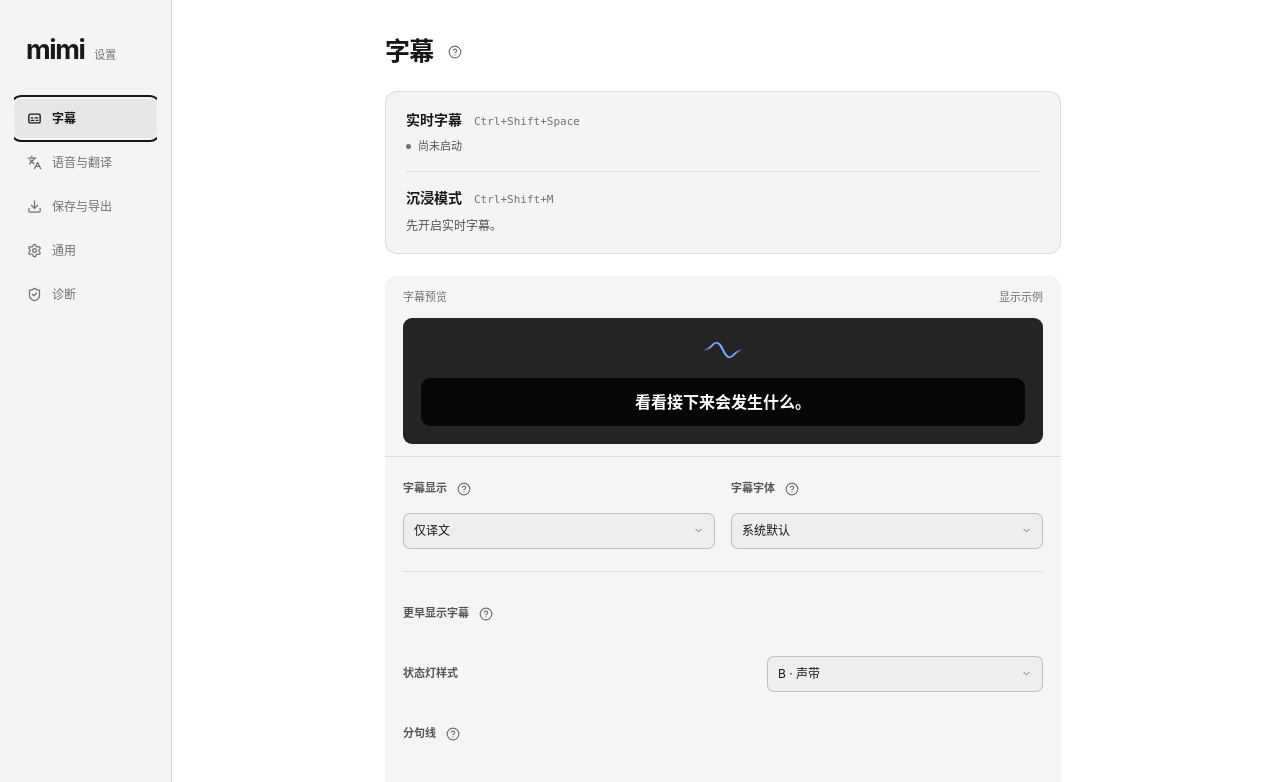
offers five categories in the expected order and keeps subtitle operations in the relevant pages in zh
Click the button "字幕" at (86, 119), box [14, 99, 157, 138]
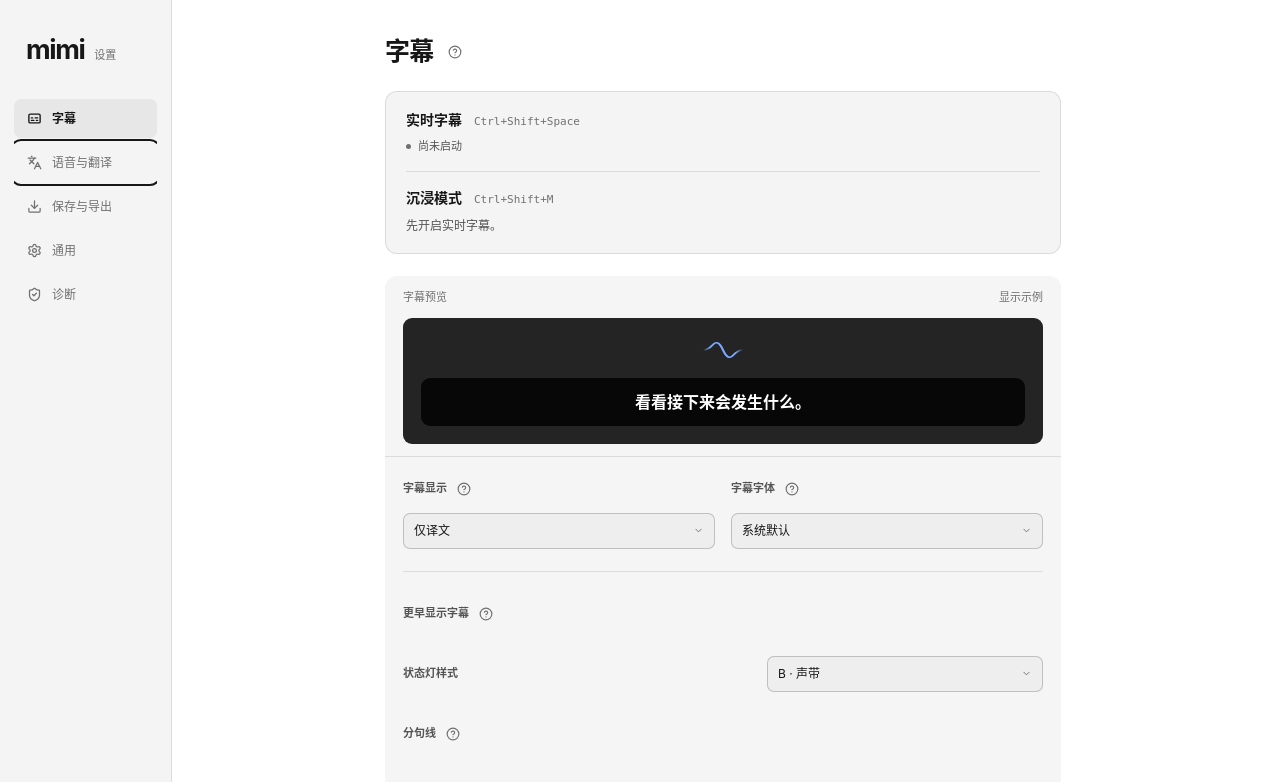
Click the button "语音与翻译" at (86, 163), box [14, 143, 157, 182]
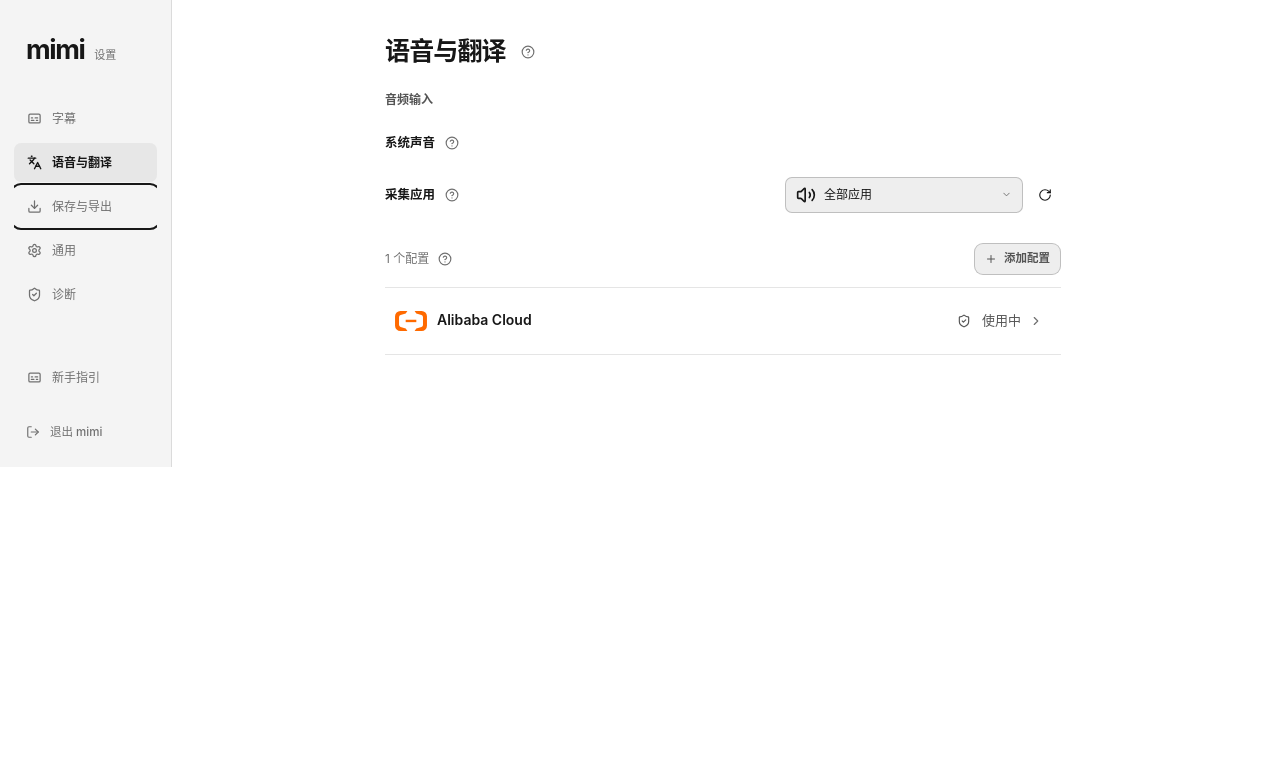
expect the button "语音与翻译" is marked as current: met, box [14, 143, 157, 182]
Click the button "保存与导出" at (86, 207), box [14, 187, 157, 226]
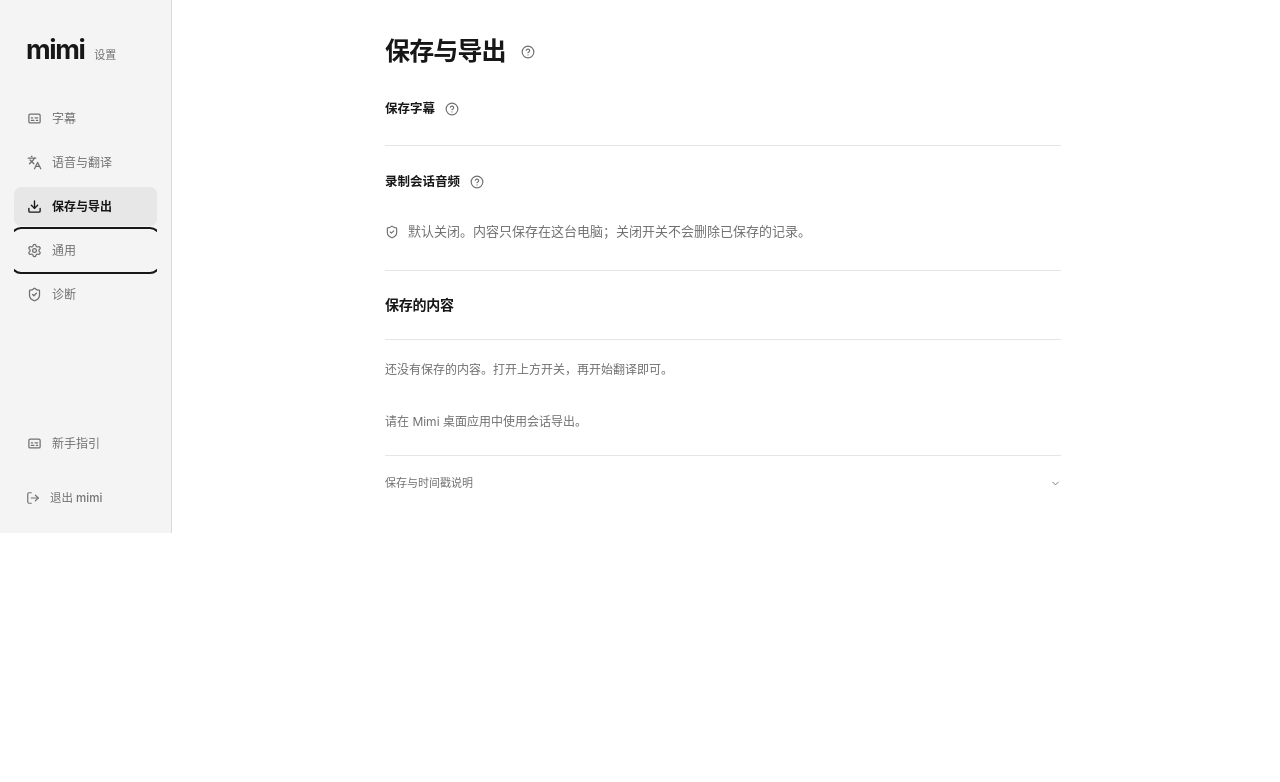
expect the button "保存与导出" is marked as current: met, box [14, 187, 157, 226]
Click the button "通用" at (86, 251), box [14, 231, 157, 270]
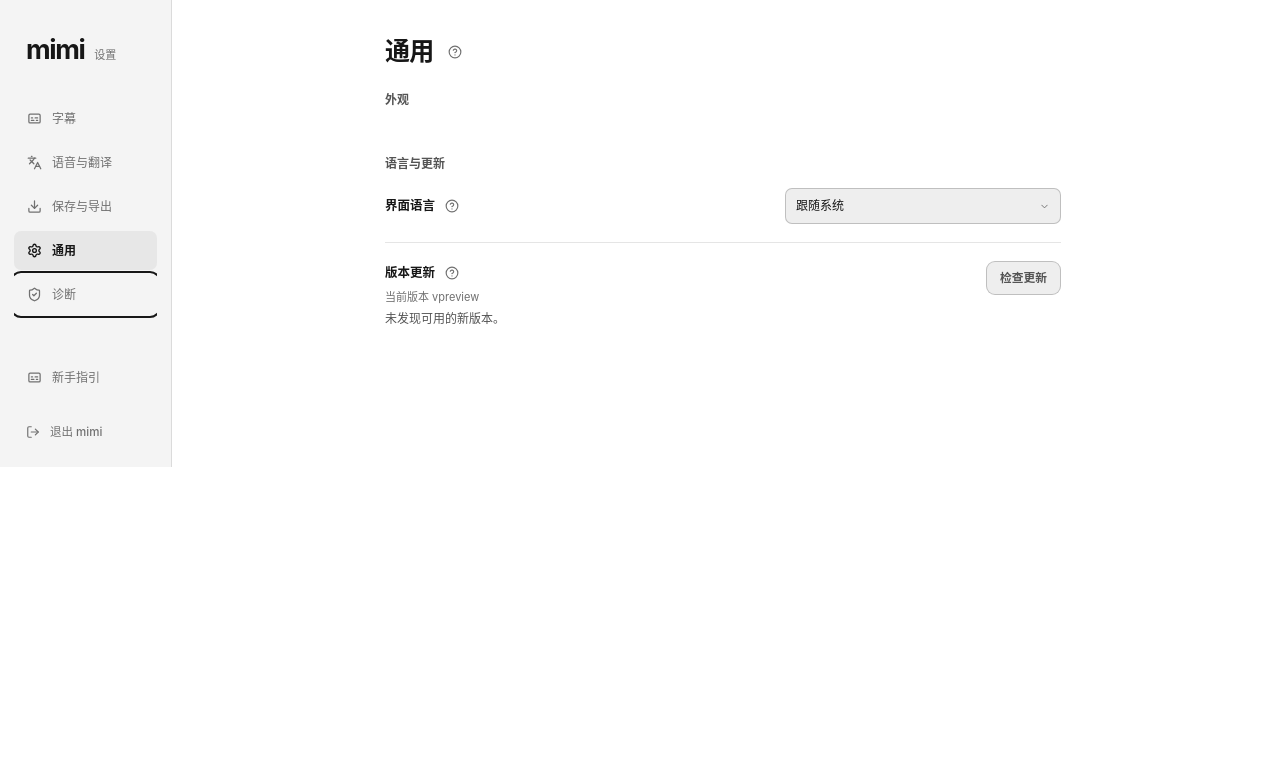
expect the button "通用" is marked as current: met, box [14, 231, 157, 270]
Click the button "诊断" at (86, 295), box [14, 275, 157, 314]
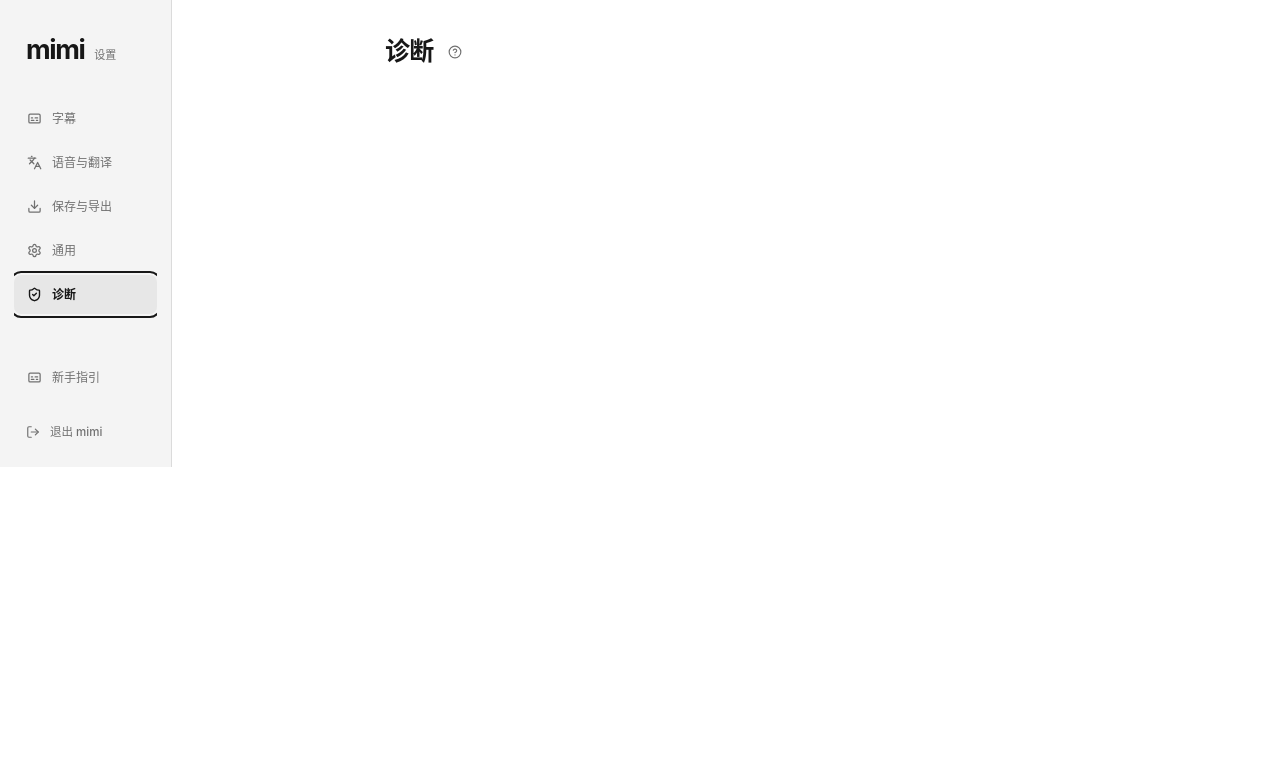
expect the button "诊断" is marked as current: met, box [14, 275, 157, 314]
Click the button with class "settings-guide-entry" at (86, 378), box [14, 358, 157, 397]
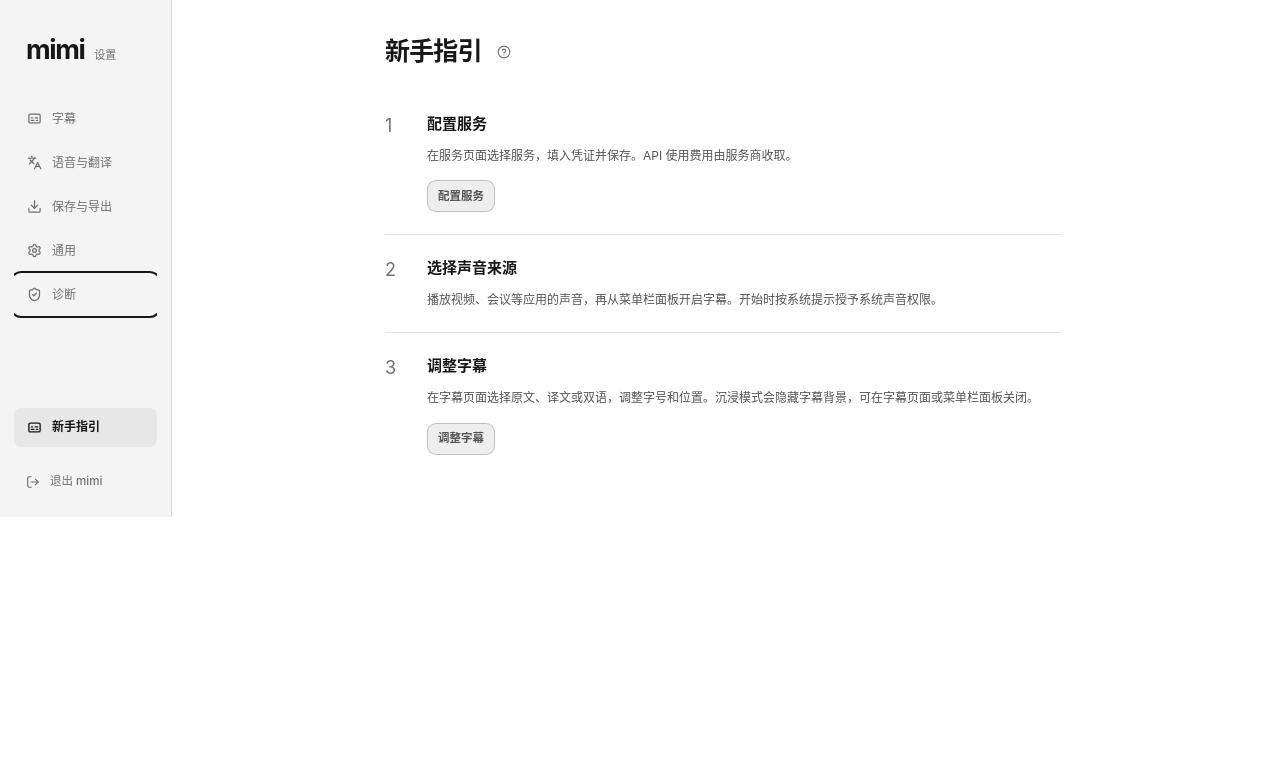
expect the button with class "settings-quit-button" is shown: met, box [14, 464, 157, 498]
expect the list is shown: met, box [385, 91, 1061, 477]
